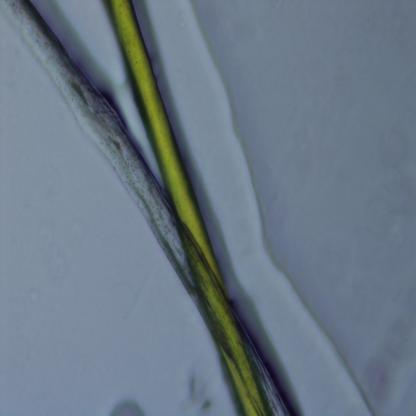Air bubble: (145, 0, 377, 415)
Background material: (364, 305, 410, 397), (184, 372, 219, 414), (109, 398, 144, 416)
Microfibre: (0, 0, 286, 415), (108, 0, 268, 414)
